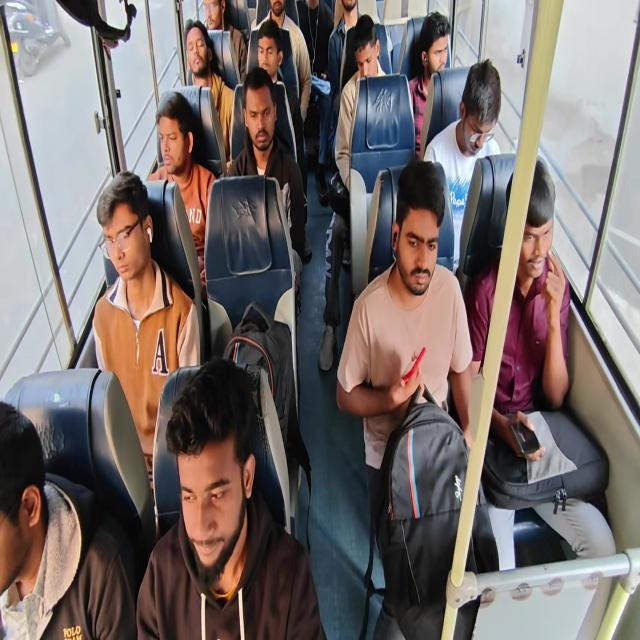person: (156, 383, 256, 640), (386, 188, 476, 408), (98, 188, 180, 408), (509, 138, 582, 370), (0, 370, 56, 640), (220, 98, 282, 204), (150, 99, 194, 208), (454, 62, 495, 172), (247, 18, 285, 96), (176, 24, 217, 86), (413, 24, 445, 99), (299, 0, 333, 69), (360, 20, 384, 89), (196, 0, 227, 44), (338, 0, 359, 40), (262, 0, 288, 25)
